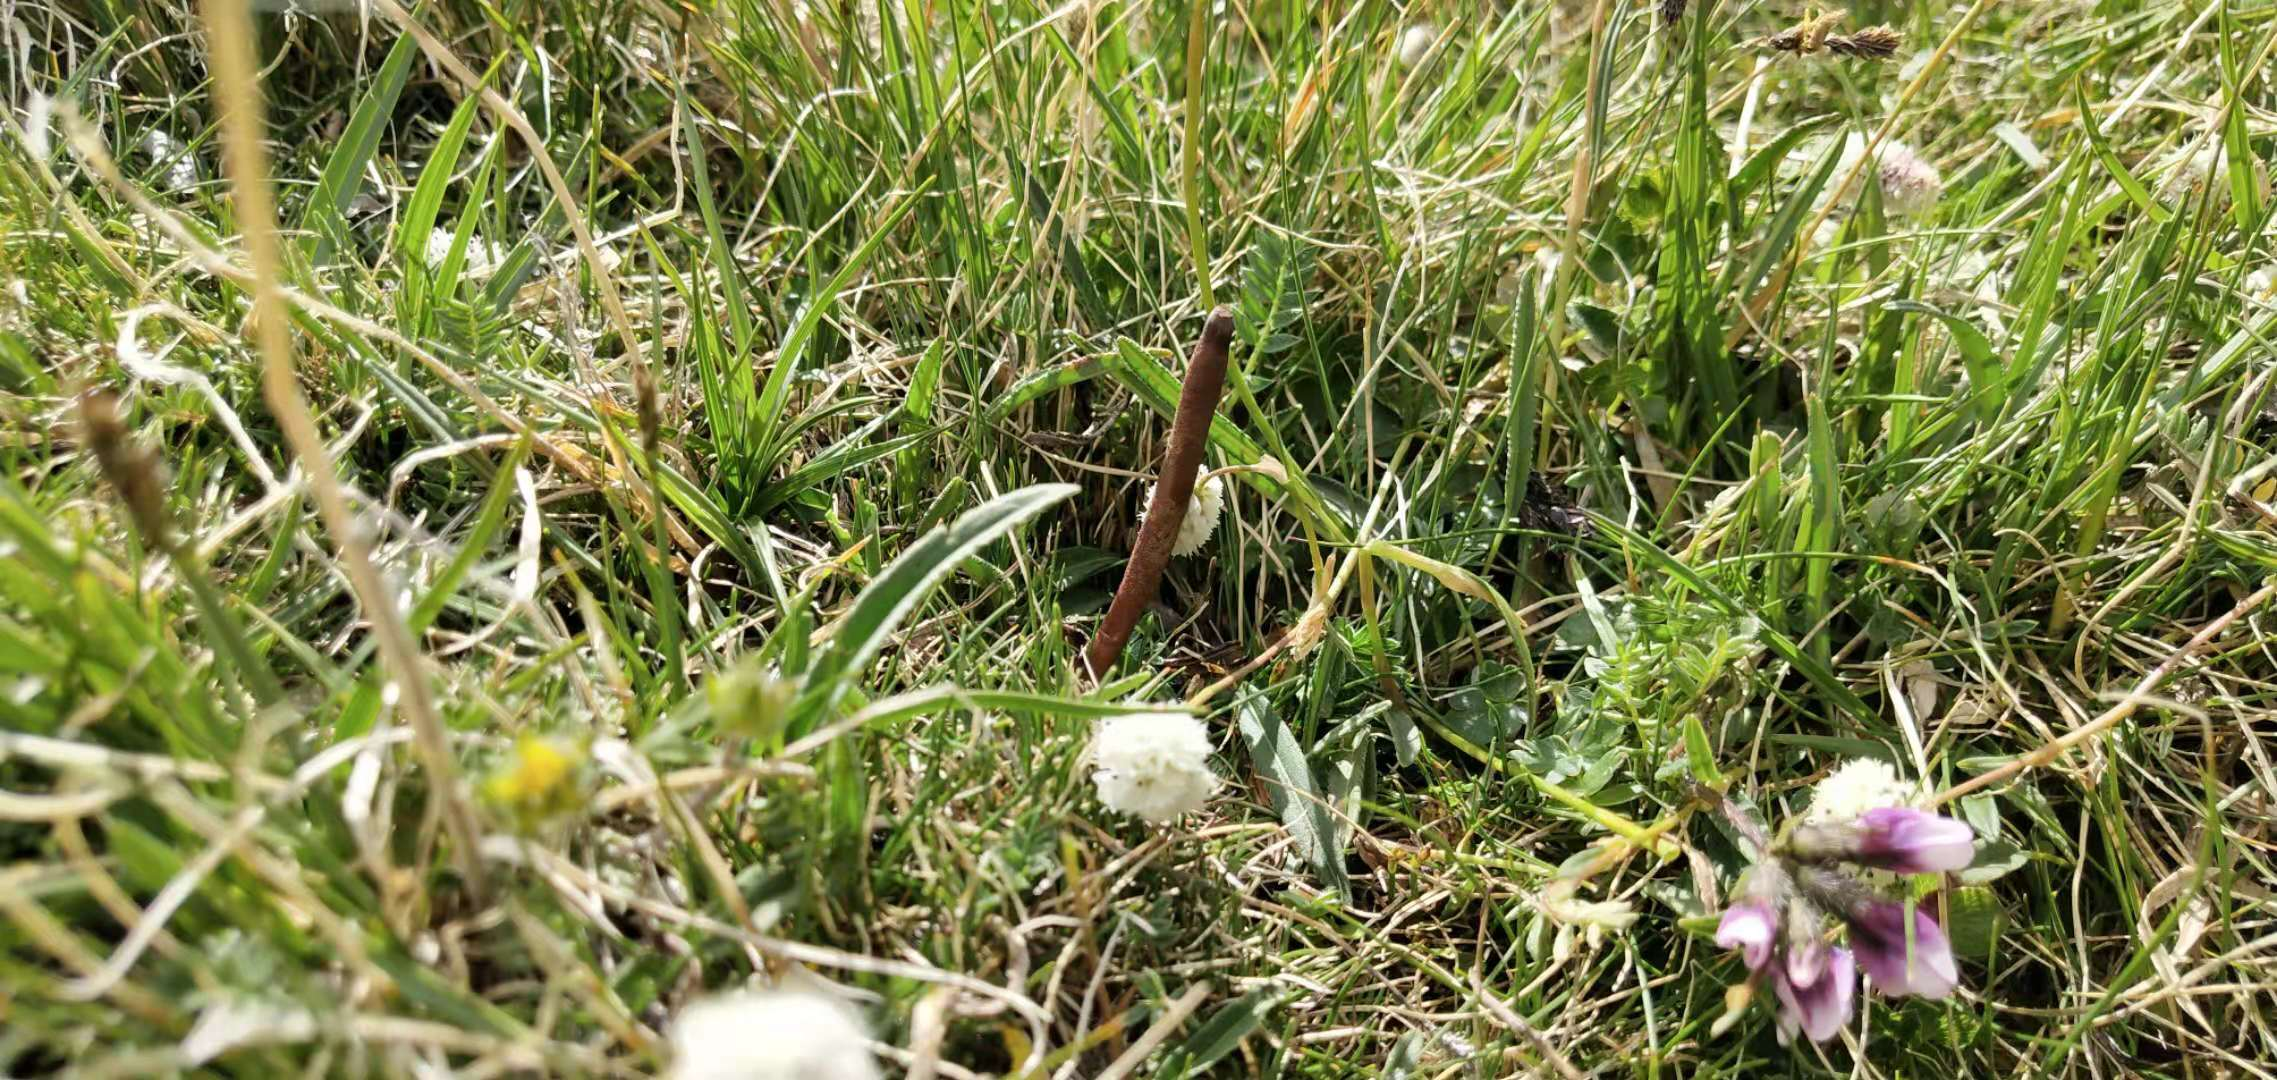cpf: (1088, 298, 1239, 676)
